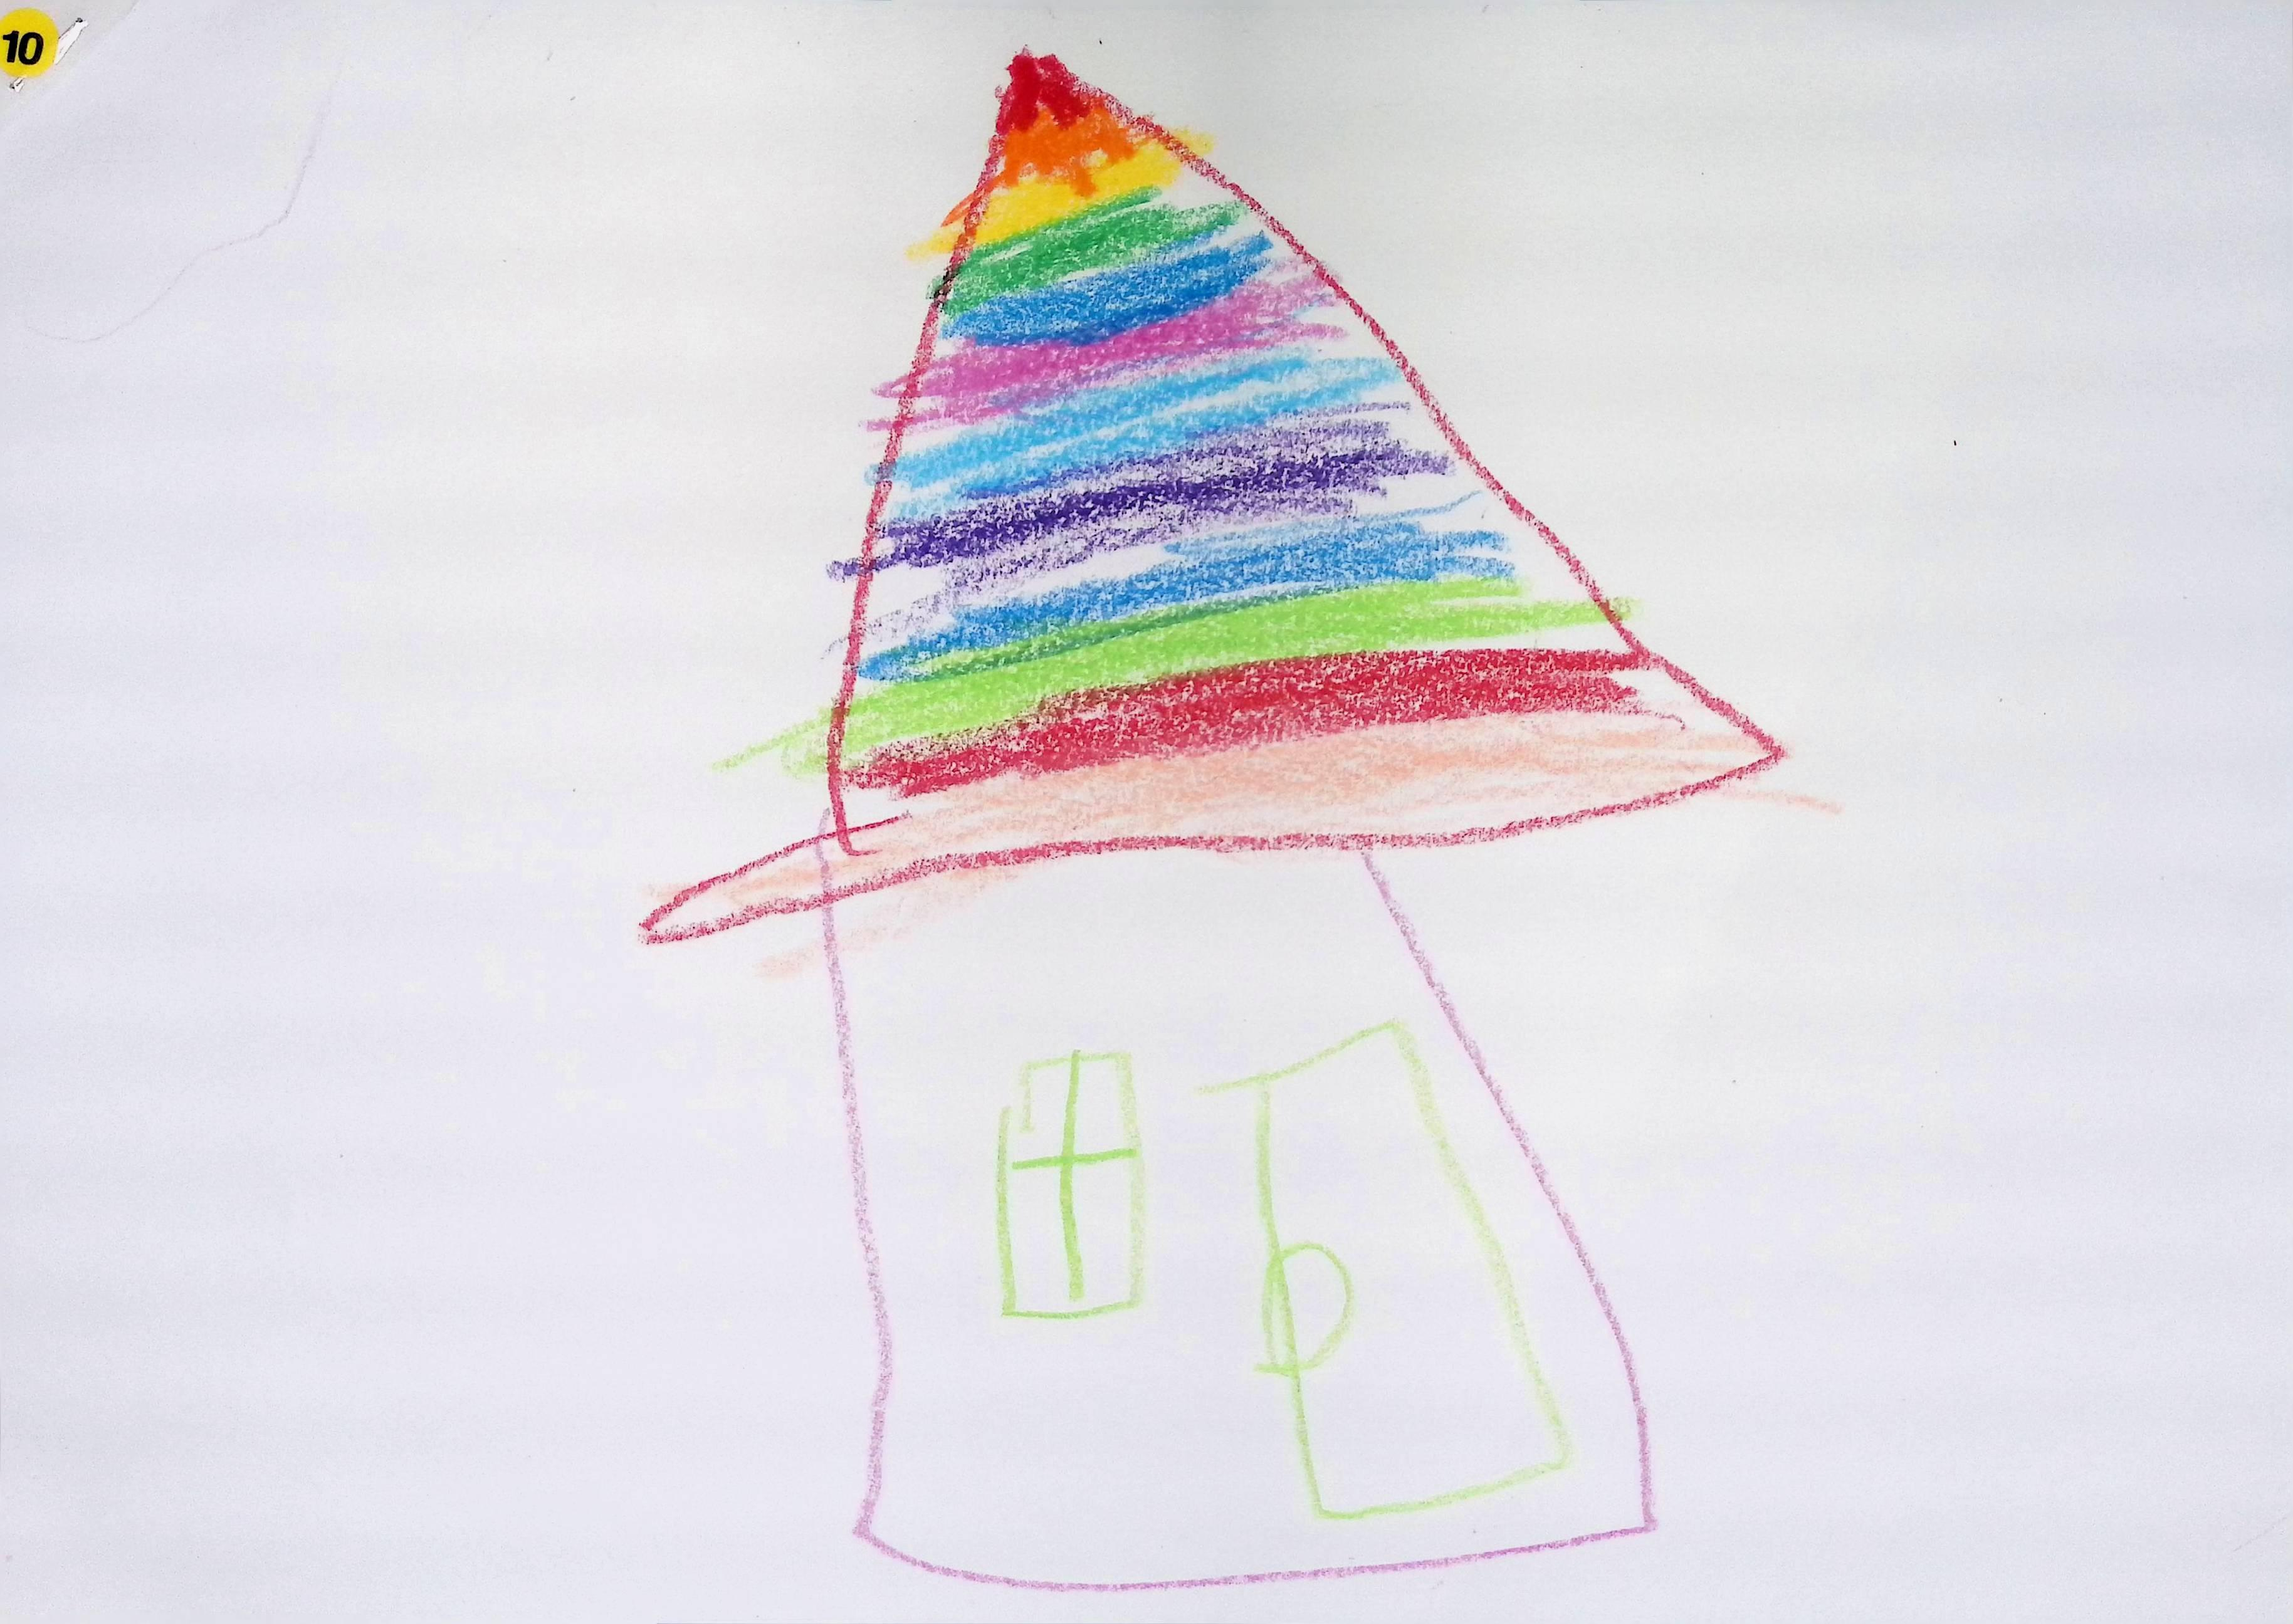door: (1251, 1023, 1571, 1520)
house: (641, 47, 1783, 1592)
roof: (645, 49, 1782, 939)
wall: (821, 852, 1657, 1592)
window: (998, 1051, 1142, 1318)
